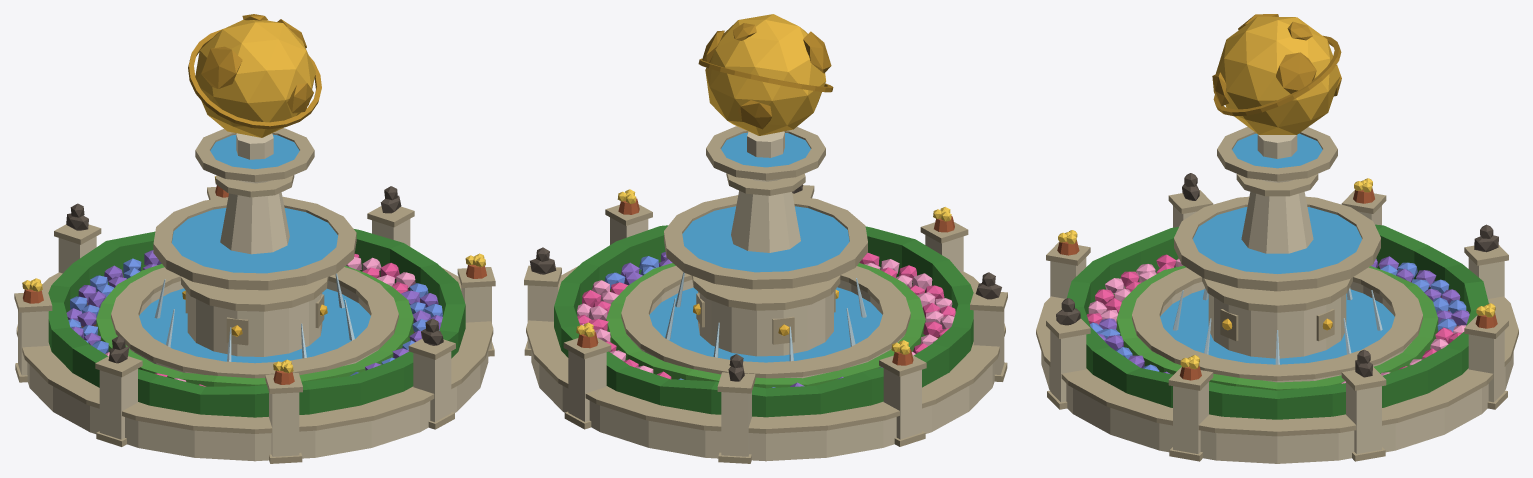
The model's file is prop_plaza_fountain_v01.glb.
3 renders of one model, left to right at view 1: azimuth 30°, elevation 25°; view 2: azimuth 150°, elevation 25°; view 3: azimuth 270°, elevation 25°, orthographic.
Visible parts, largest first — view 1: prop_plaza_fountain_v01; view 2: prop_plaza_fountain_v01; view 3: prop_plaza_fountain_v01.
Part boxes in pixels (box(x1,y1,x2,y2)): prop_plaza_fountain_v01: box(14, 14, 495, 463); prop_plaza_fountain_v01: box(524, 14, 1007, 463); prop_plaza_fountain_v01: box(1036, 14, 1518, 463).
Size of the model in its own units: 7.36 by 5.79 by 7.36.
